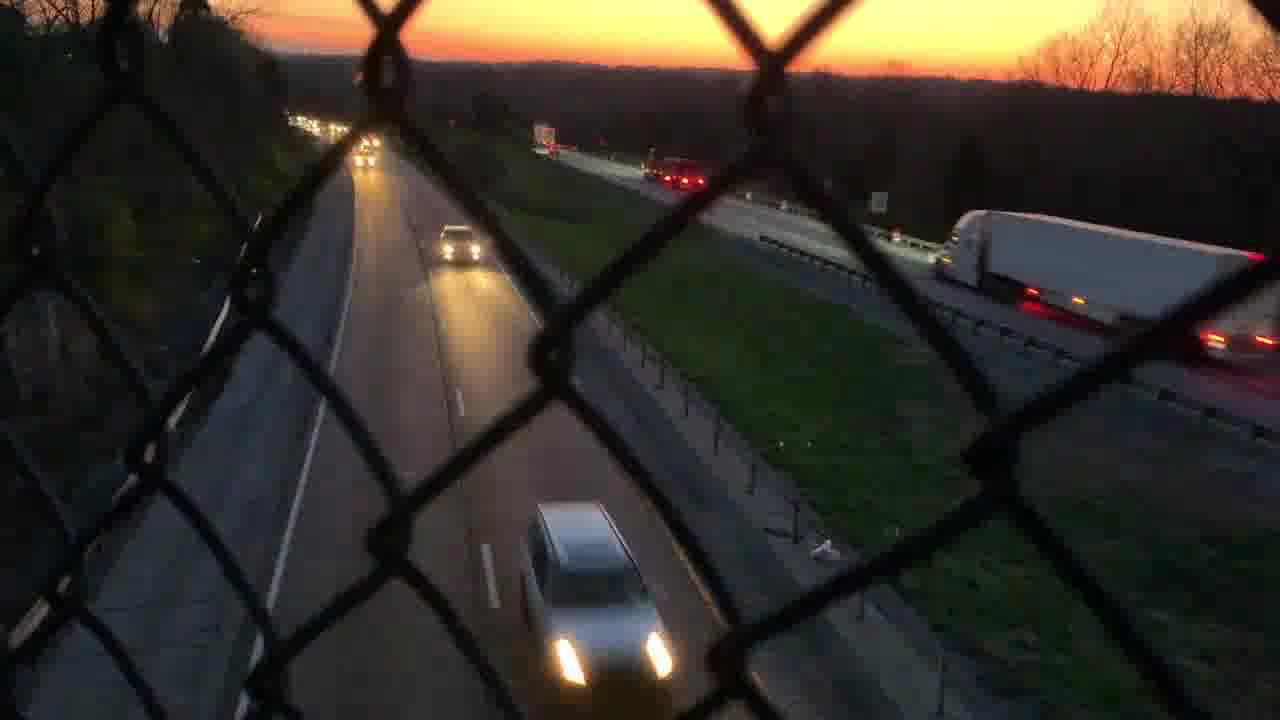heavyTruck: (931, 207, 1280, 369), (644, 146, 710, 196)
largeCar: (513, 497, 686, 709), (433, 224, 485, 268)
